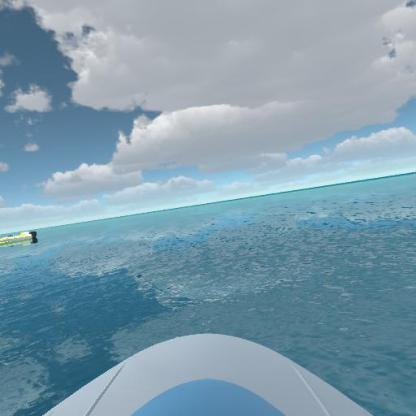usv2: (0, 226, 41, 253)
